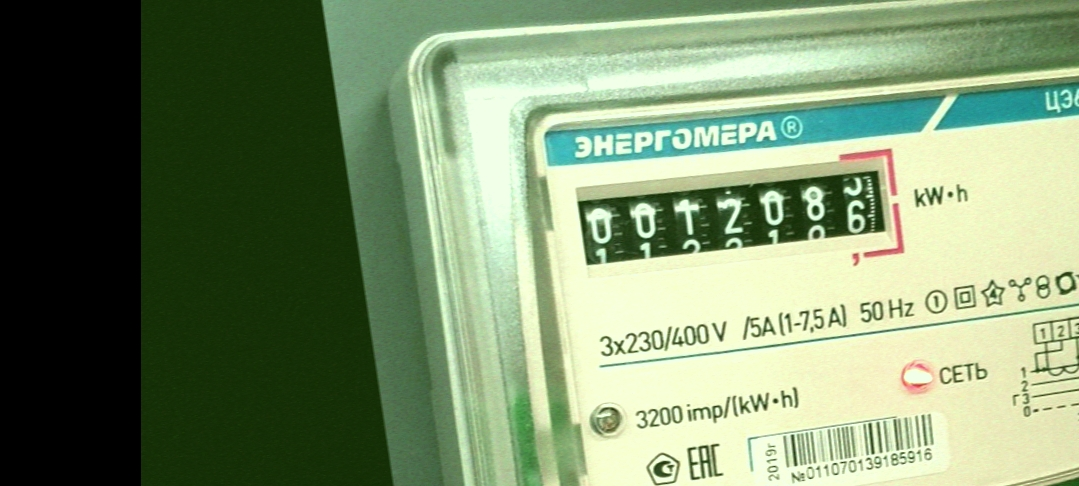0: (629, 196, 662, 241), (586, 201, 616, 246), (759, 185, 788, 227)
1: (674, 193, 701, 237)
2: (717, 193, 748, 235)
6: (841, 195, 870, 234)
8: (801, 180, 829, 223)
screen: (564, 125, 920, 312)
